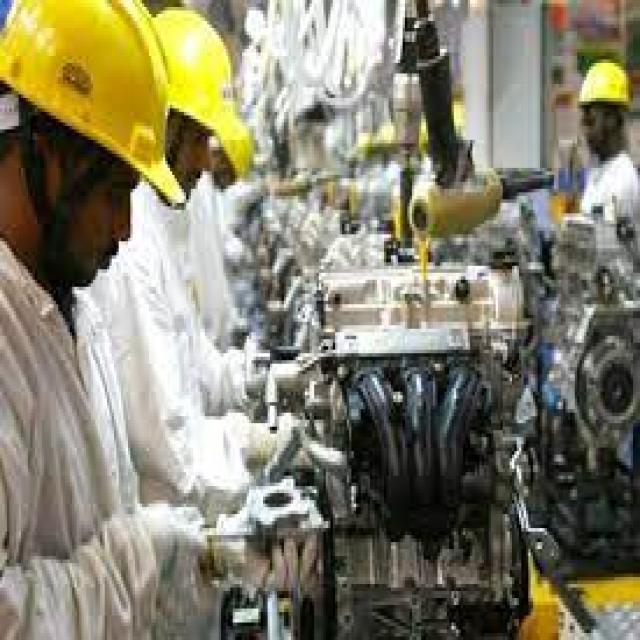Safety-Helmet: (0, 3, 182, 206), (147, 0, 260, 189), (570, 49, 640, 126)
